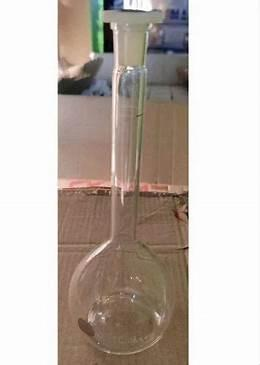Volumetric flask: (72, 0, 176, 354)
